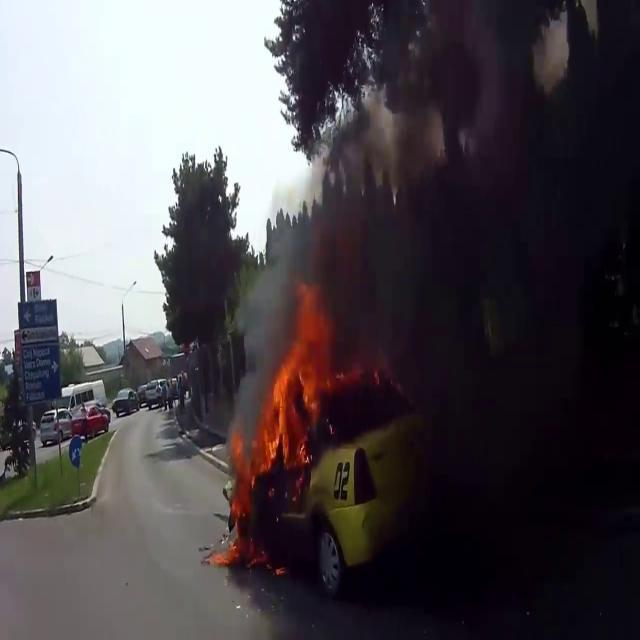Fire: (236, 276, 346, 501)
Smoke: (277, 10, 632, 410)
